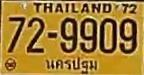0: (99, 17, 116, 52)
2: (26, 16, 44, 52)
7: (7, 16, 24, 52)
9: (119, 17, 136, 53), (79, 17, 96, 52), (60, 17, 76, 52)
NPT: (44, 56, 100, 75)
